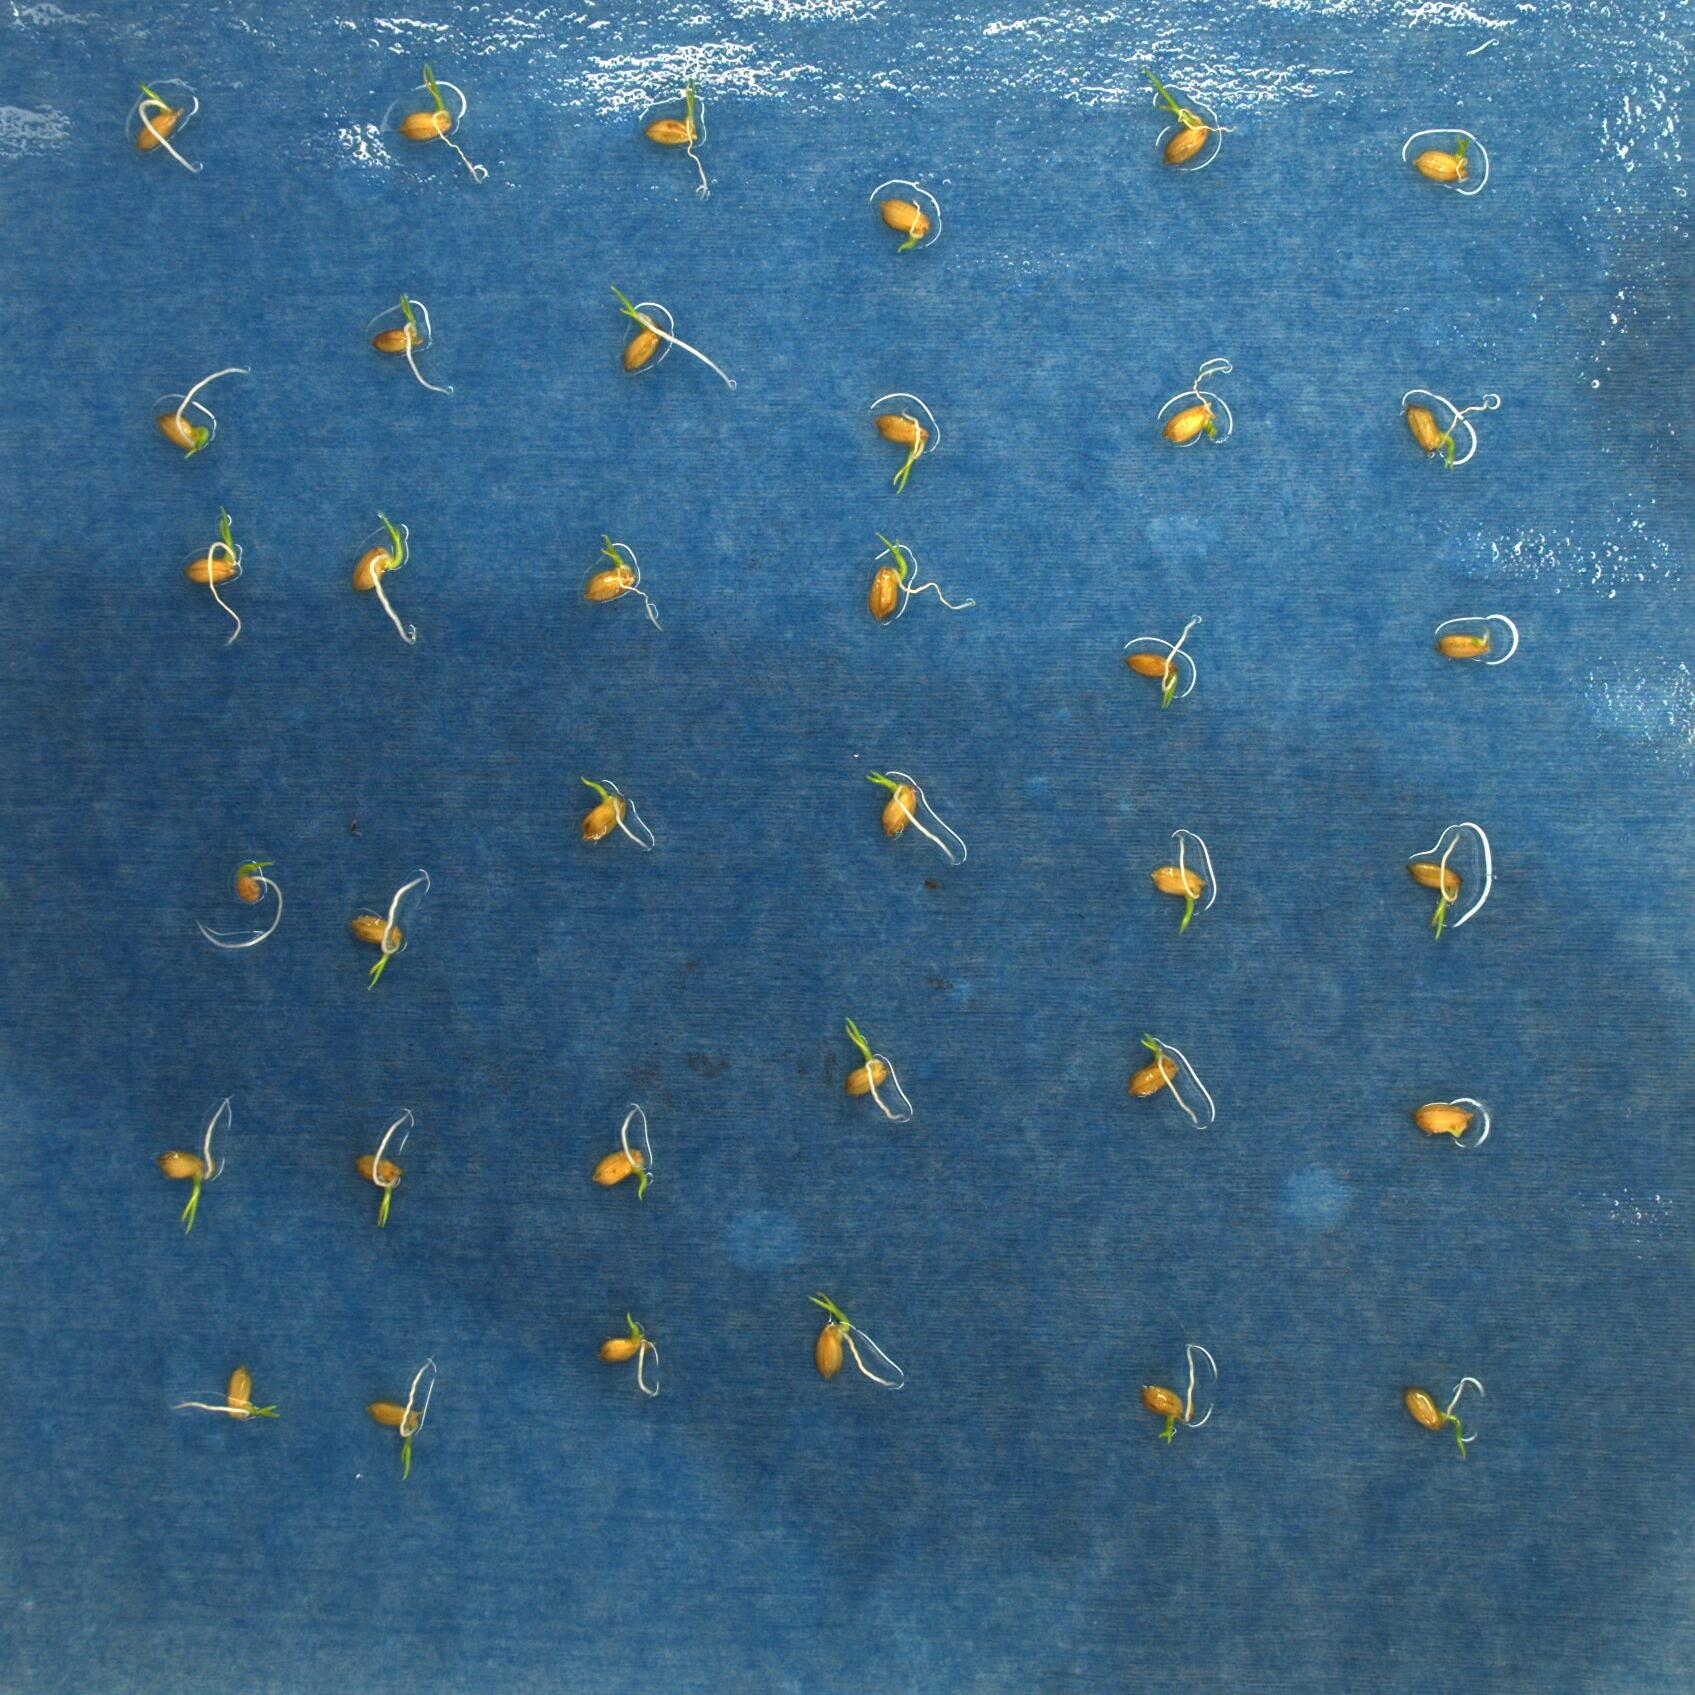not sprout: (1161, 363, 1231, 445), (1411, 1101, 1475, 1139), (1434, 629, 1493, 663)
sprout: (608, 282, 740, 390), (397, 59, 487, 183), (154, 1093, 230, 1237), (868, 529, 976, 624), (1142, 65, 1237, 168), (349, 508, 418, 646), (155, 365, 251, 461), (865, 765, 958, 865), (349, 872, 427, 990), (373, 289, 456, 397), (807, 1287, 897, 1388), (365, 1354, 433, 1484), (192, 857, 286, 951), (185, 504, 245, 643), (584, 531, 664, 632), (644, 79, 712, 196), (1125, 1032, 1203, 1128), (352, 1107, 413, 1229), (1406, 827, 1465, 941), (1405, 394, 1492, 470), (168, 1364, 286, 1420), (844, 1014, 905, 1121), (577, 771, 655, 852), (135, 81, 203, 172), (1400, 1374, 1471, 1461), (1125, 619, 1195, 708), (591, 1105, 653, 1201), (1141, 1341, 1197, 1447), (1152, 832, 1208, 934), (594, 1312, 663, 1395), (875, 404, 933, 494), (1411, 133, 1473, 185), (879, 196, 931, 251)
